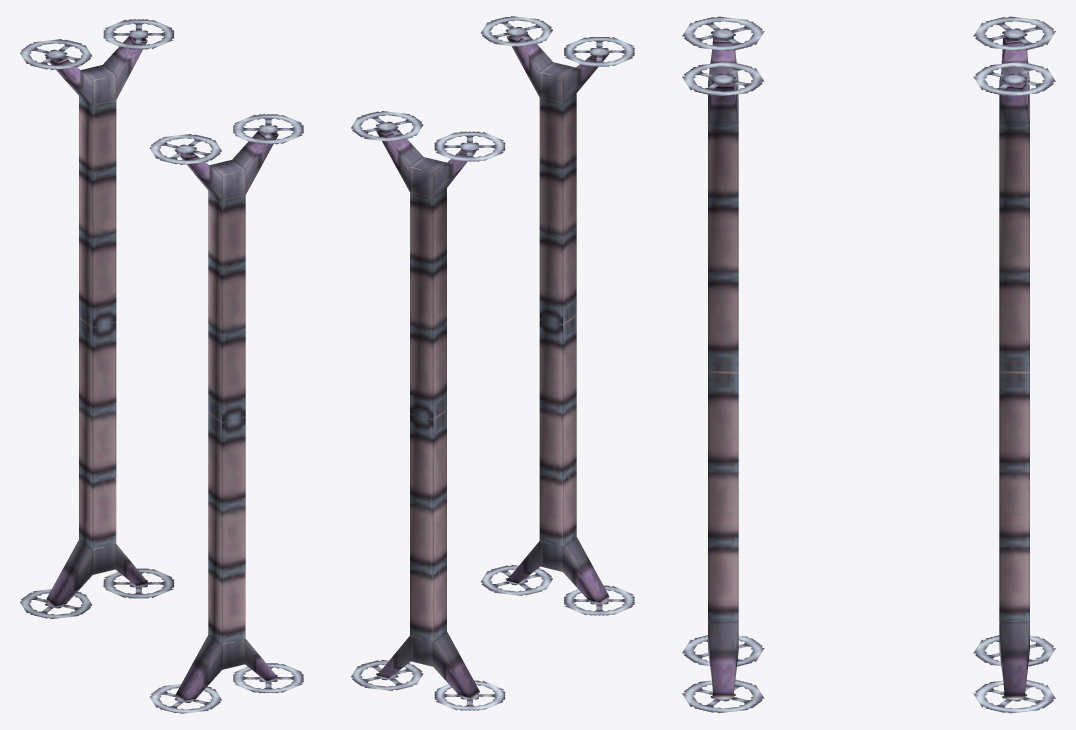
3 renders of one model, left to right at view 1: azimuth 30°, elevation 25°; view 2: azimuth 150°, elevation 25°; view 3: azimuth 270°, elevation 25°, orthographic. The views are drawn at different scales.
Parts seen in each view (by area): view 1: T1L7M003_7; view 2: T1L7M003_7; view 3: T1L7M003_7.
Boxes of the visible parts, x1,y1,x2,y2 form: T1L7M003_7: (20,19,303,713); T1L7M003_7: (351,16,634,710); T1L7M003_7: (682,16,1055,713).
Bounding box in the file's own units: 1.11 × 3.76 × 2.13.
